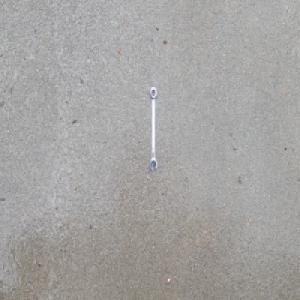Wrench: (149, 85, 157, 172)
